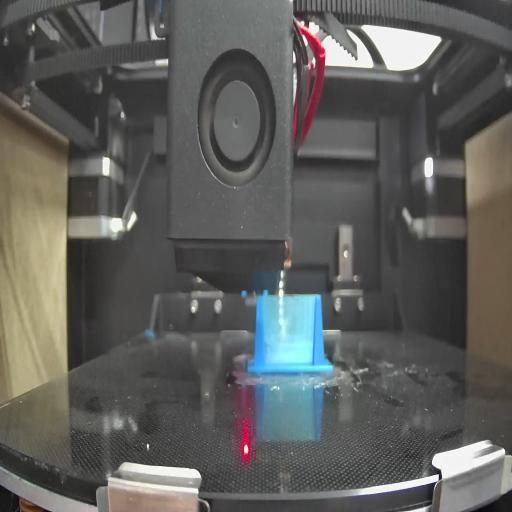stringing: (267, 293, 313, 368)
